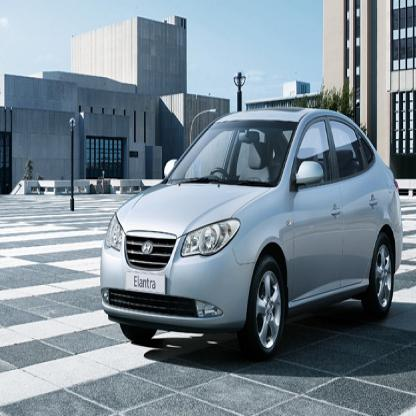Vehicle: (98, 100, 404, 362)
